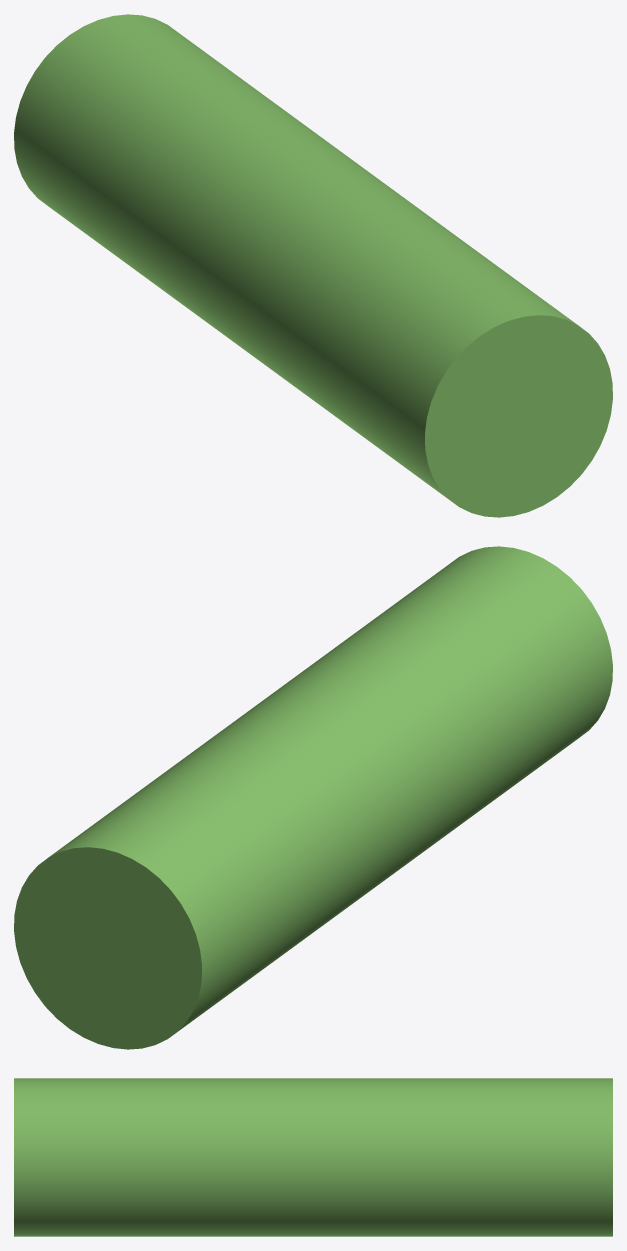
File: body45_visual.obj
3 renders of one model, top to bottom at view 1: azimuth 30°, elevation 25°; view 2: azimuth 150°, elevation 25°; view 3: azimuth 270°, elevation 25°, orthographic. The views are drawn at different scales.
Visible parts, largest first — view 1: Body45; view 2: Body45; view 3: Body45.
Part boxes in pixels (<box>): Body45: <box>14,14,612,517</box>; Body45: <box>14,546,612,1049</box>; Body45: <box>14,1078,612,1236</box>.
Size of the model in its own units: 1.8 by 1.8 by 6.8.
